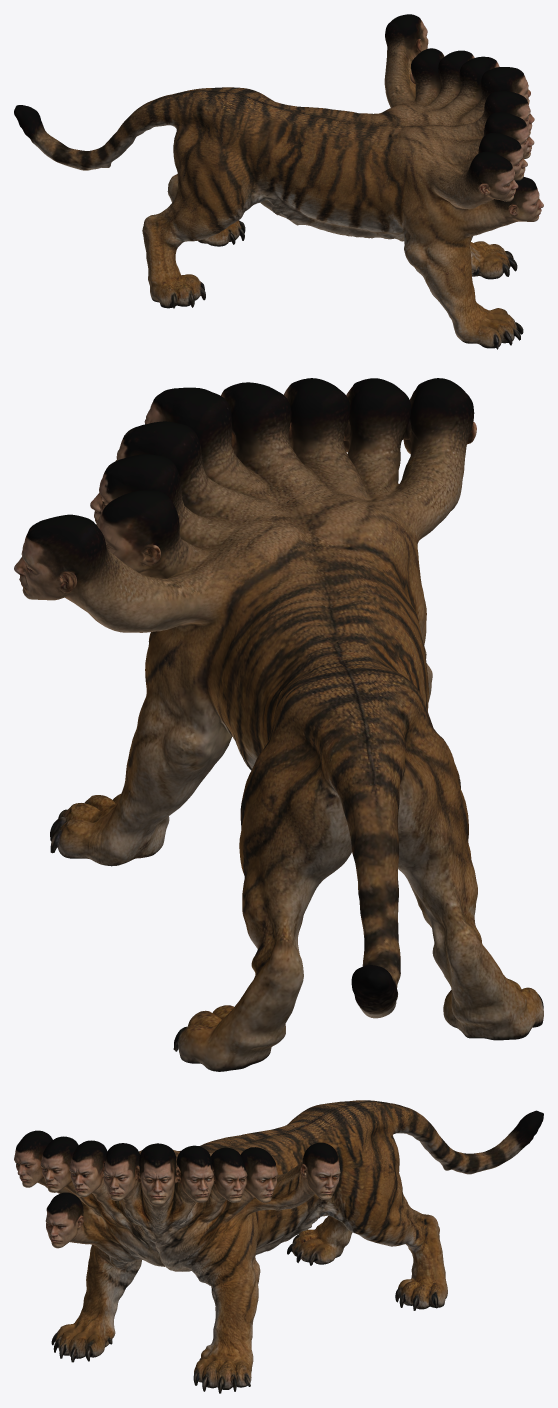
Rendered from kaiming.glb.
3 views of the same model, one above another, from view 1: azimuth 30°, elevation 25°; view 2: azimuth 150°, elevation 25°; view 3: azimuth 270°, elevation 25° (orthographic). The views are drawn at different scales.
Visible parts, largest first — view 1: tripo_node_abc641a9-2f35-436d-9a3f-8dc25cbac0c6; view 2: tripo_node_abc641a9-2f35-436d-9a3f-8dc25cbac0c6; view 3: tripo_node_abc641a9-2f35-436d-9a3f-8dc25cbac0c6.
Part boxes in pixels (<box>): tripo_node_abc641a9-2f35-436d-9a3f-8dc25cbac0c6: <box>14,14,543,349</box>; tripo_node_abc641a9-2f35-436d-9a3f-8dc25cbac0c6: <box>14,378,543,1071</box>; tripo_node_abc641a9-2f35-436d-9a3f-8dc25cbac0c6: <box>14,1100,543,1393</box>.
Size of the model in its own units: 0.7191 by 0.4632 by 0.9801.
Materials: 1 (1 with a texture image).
